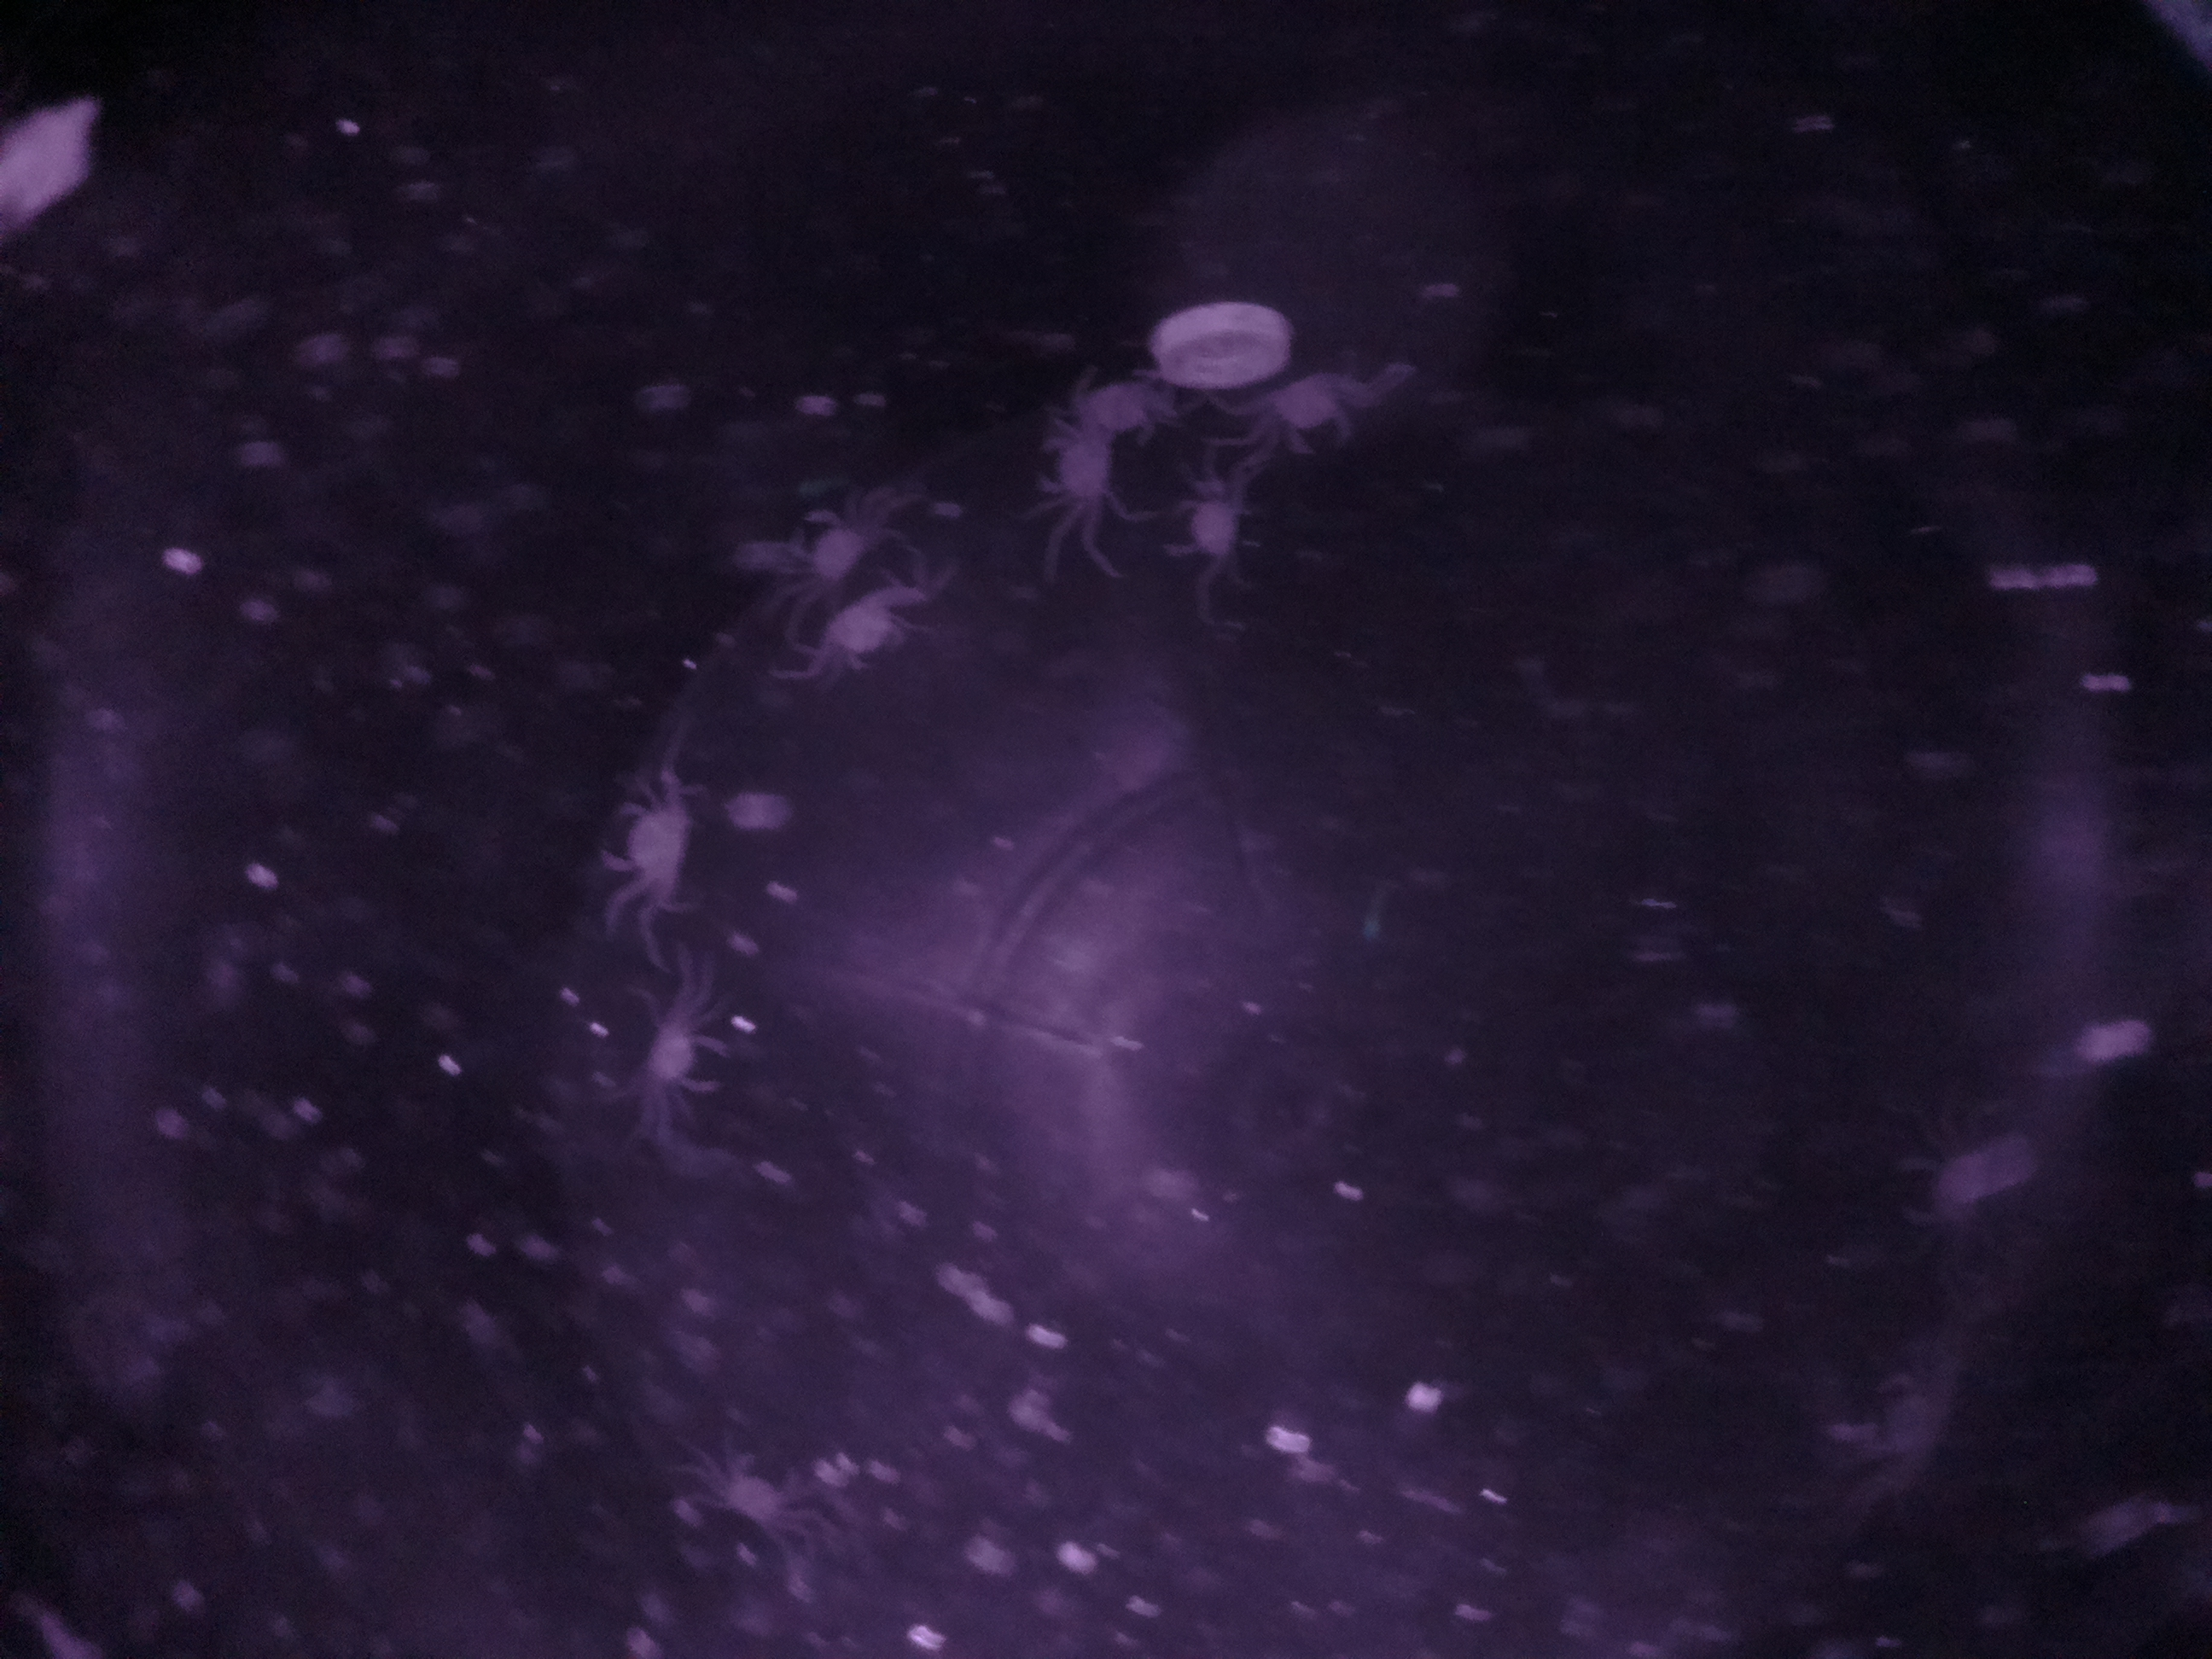Crab: (577, 772, 733, 899), (629, 1004, 745, 1115), (1160, 464, 1270, 577), (810, 579, 914, 685), (1022, 415, 1132, 514)
